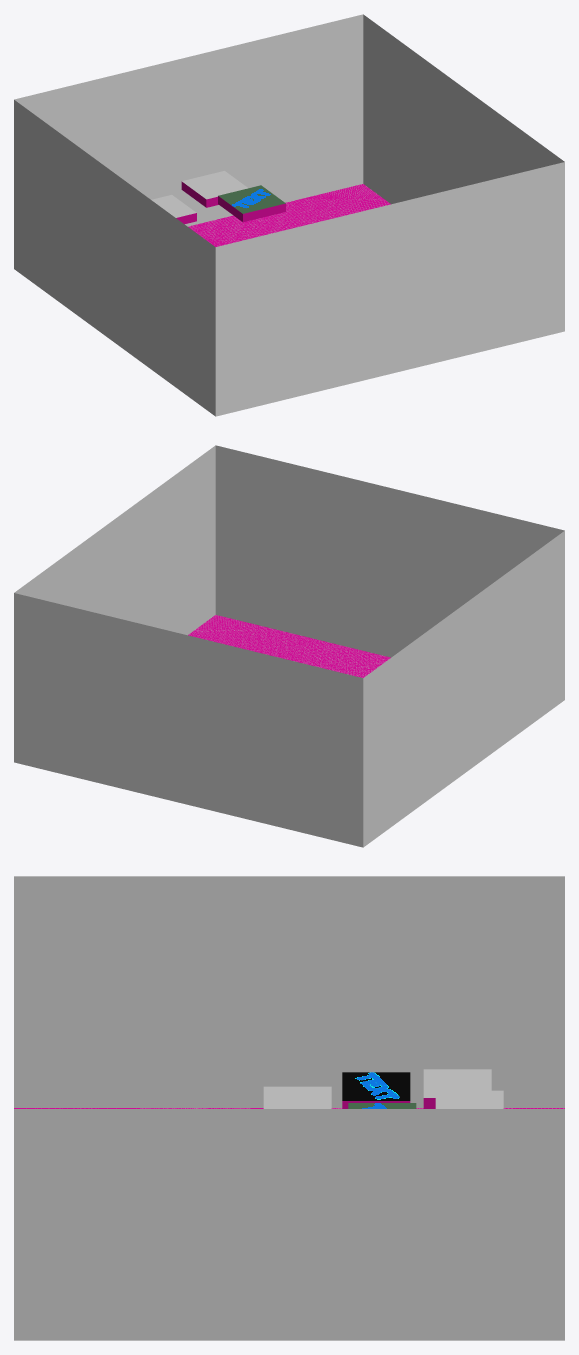
Rendered from multi-8bpp.fbx.
3 renders of one model, top to bottom at view 1: azimuth 30°, elevation 25°; view 2: azimuth 150°, elevation 25°; view 3: azimuth 270°, elevation 25°, orthographic. The views are drawn at different scales.
Visible parts, largest first — view 1: Plane, Cube.002, Cube.009, Cube.008; view 2: Plane; view 3: Plane, Cube.006, Cube.007, Cube.005, Cube.008.
Boxes of the visible parts, x1,y1,x2,y2 form: Plane: (14, 14, 564, 416); Cube.002: (218, 185, 285, 222); Cube.009: (181, 171, 247, 207); Cube.008: (151, 195, 196, 224); Plane: (14, 445, 564, 847); Plane: (14, 876, 564, 1340); Cube.006: (342, 1072, 410, 1108); Cube.007: (423, 1069, 491, 1108); Cube.005: (263, 1086, 331, 1108); Cube.008: (435, 1090, 503, 1108).
Bounding box in the file's own units: 3027 × 1403 × 3027.
